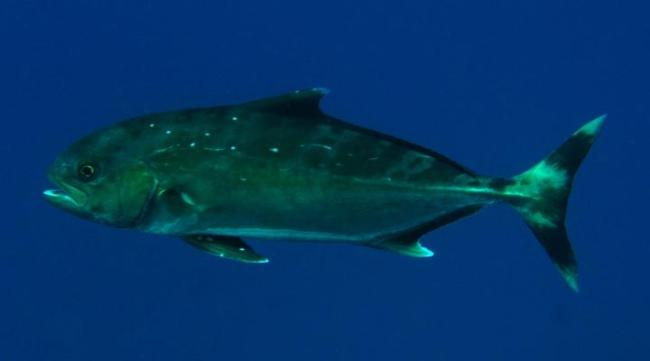fish: (42, 87, 609, 296)
